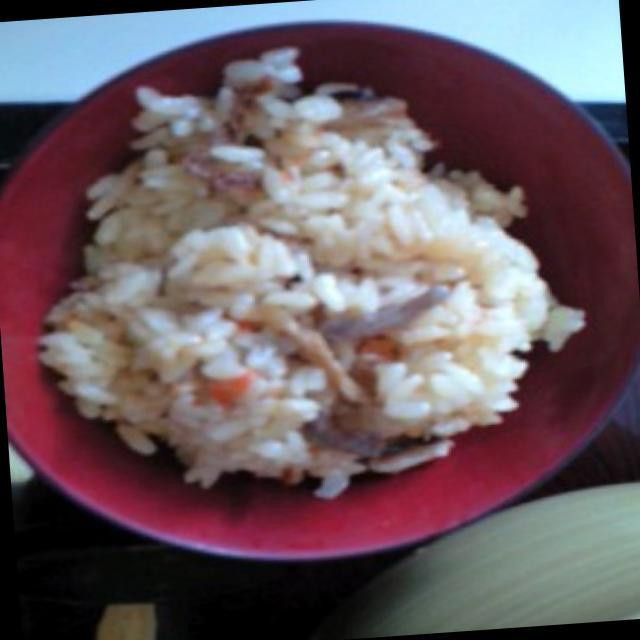Rice: (48, 22, 584, 493)
